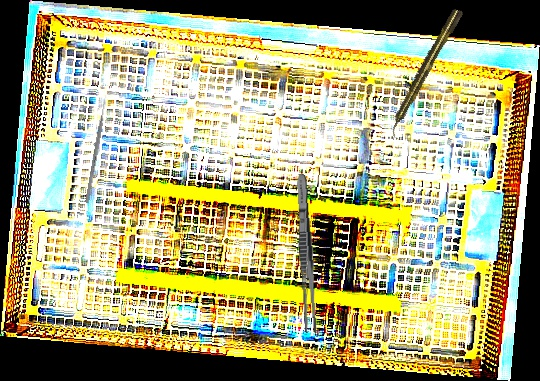Dressing Forceps: (293, 173, 320, 334)
Handpiece: (383, 5, 466, 139)
Pusher: (85, 94, 108, 204)
